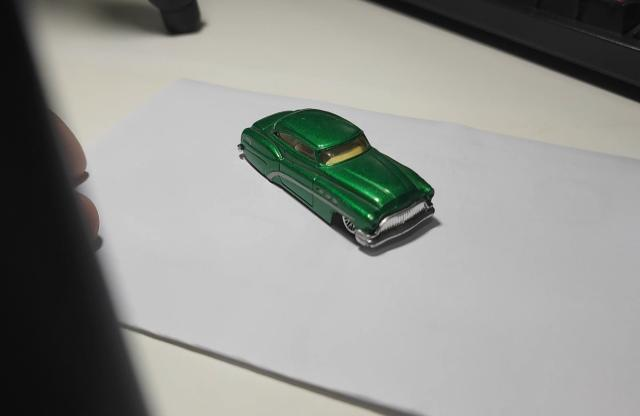06_MASERATI: (238, 109, 441, 258)
